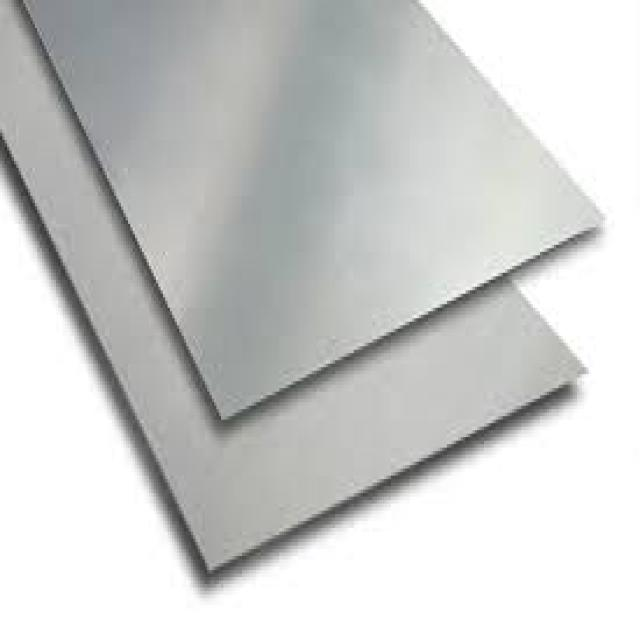Dry: (0, 0, 605, 584)
